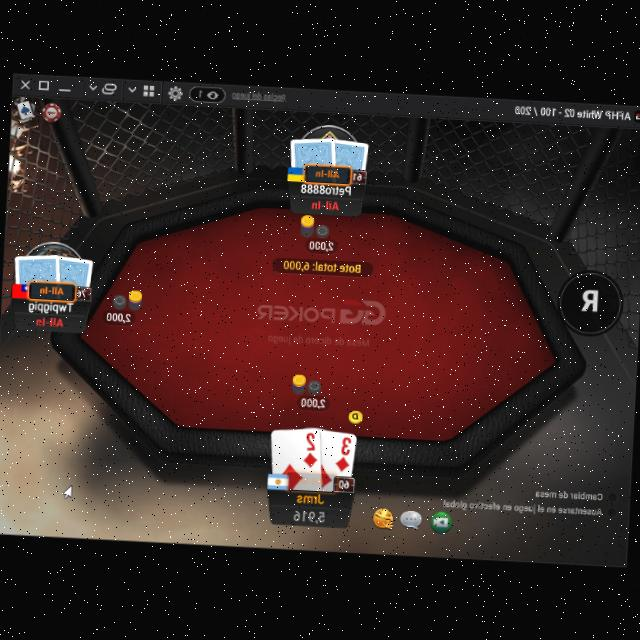2d: (300, 427, 322, 468), (332, 434, 354, 473)
all_in_symbol: (310, 194, 340, 212), (34, 313, 64, 327)
bet_text: (104, 308, 134, 323), (308, 236, 334, 252), (299, 394, 326, 408)
card_back: (12, 247, 64, 299), (288, 130, 340, 180), (325, 134, 370, 182), (50, 252, 94, 298)
dealer: (126, 284, 144, 304), (346, 406, 364, 424), (291, 370, 309, 388)
pot_text: (281, 258, 364, 272)
stack_text: (291, 505, 329, 524)
